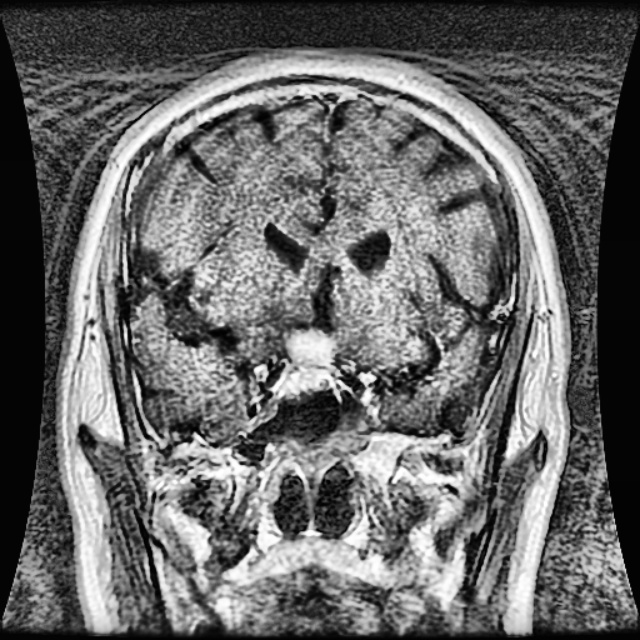Pituitary: (287, 327, 334, 392)
